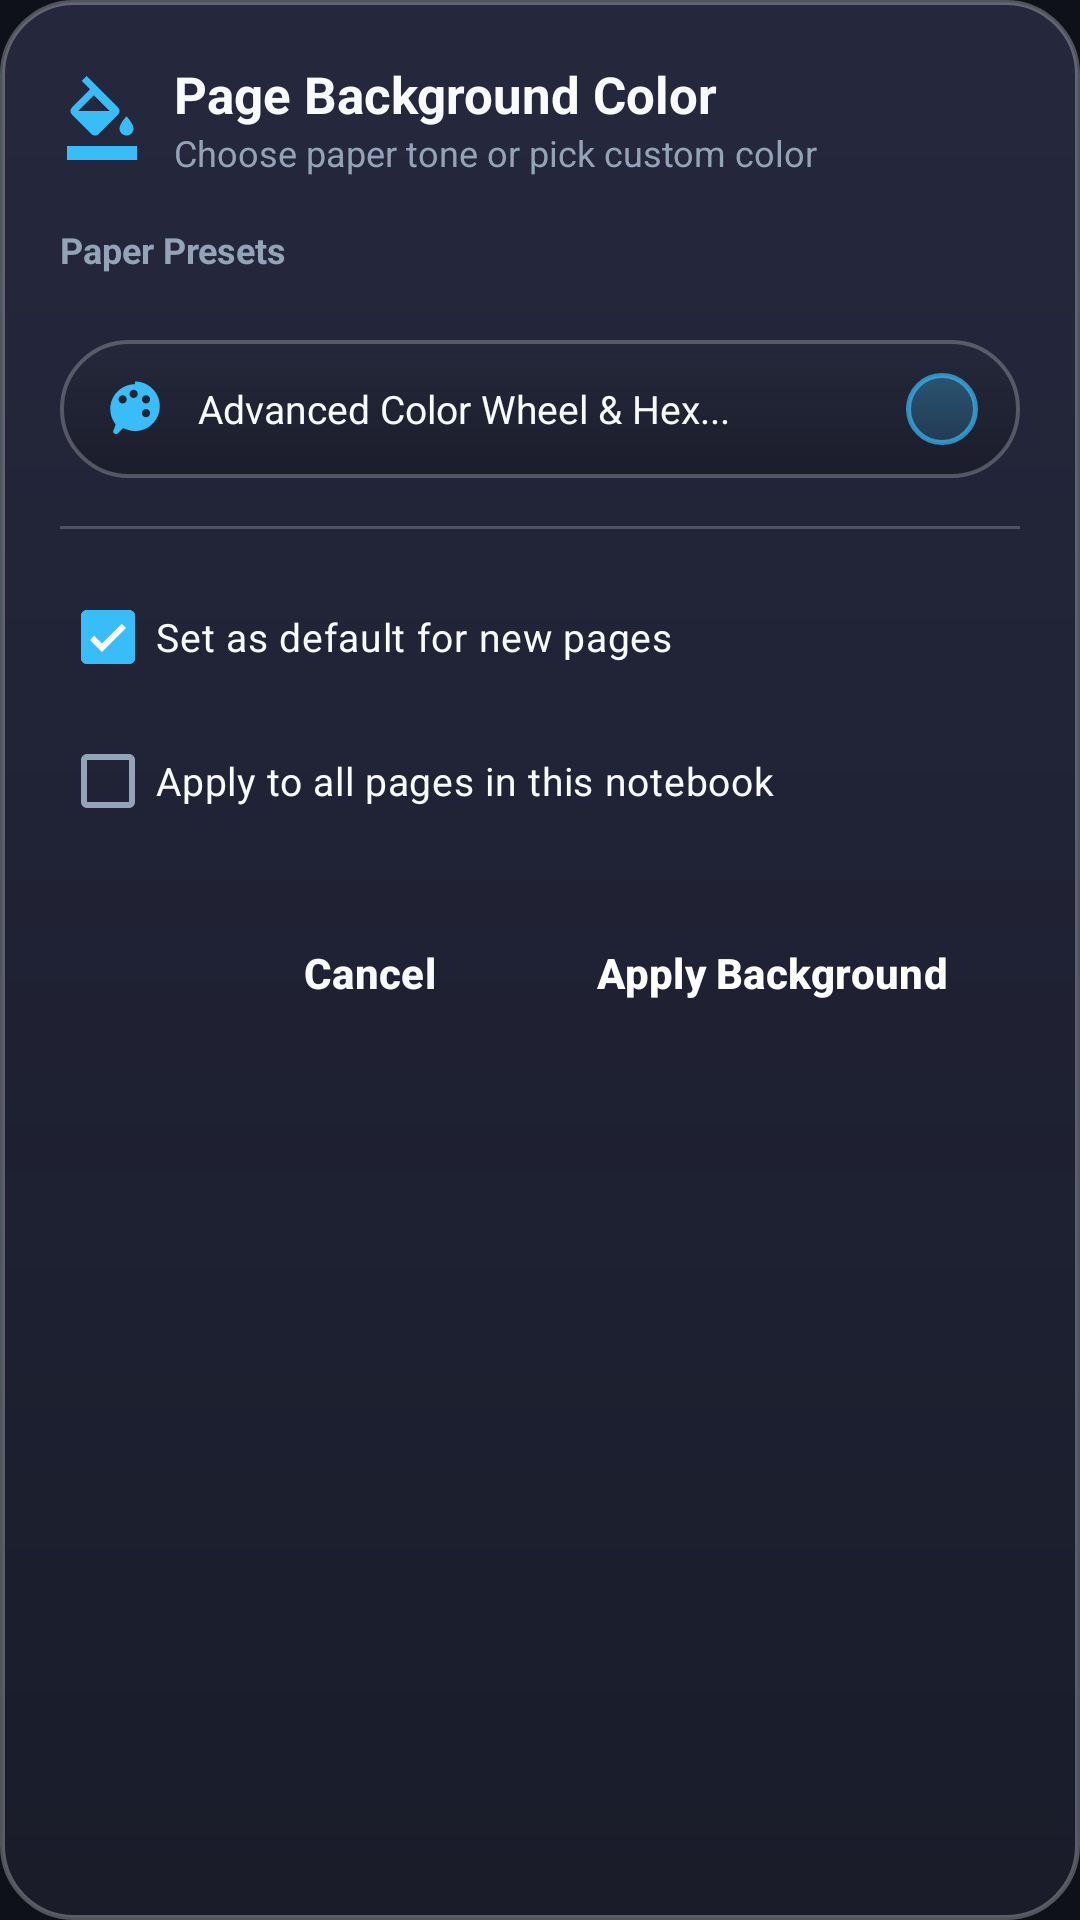

Point at icon controls on the screen. Image size 1080px x 1920px, points as [x,y].
palette: [135,407]
